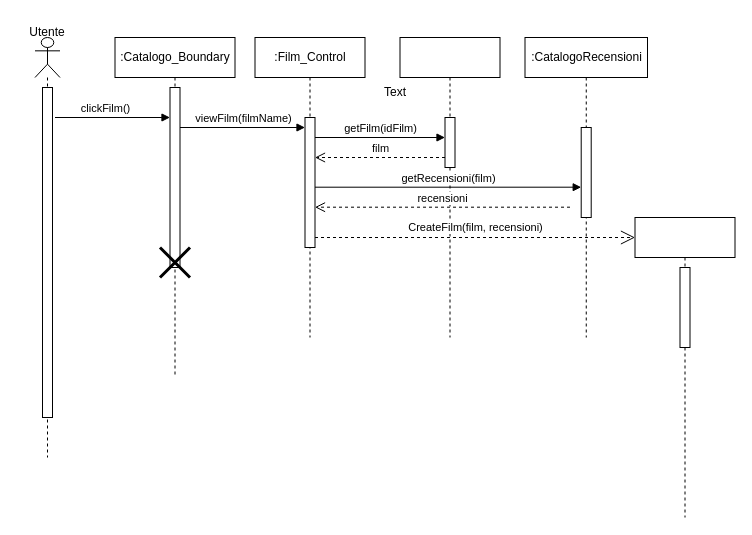
Image size: 752x535. Some labels were removed from this diagram. Each missing label, with the centre of its shape:
:Catalogo: [449,187]
:Film_Boundary: [684,367]
